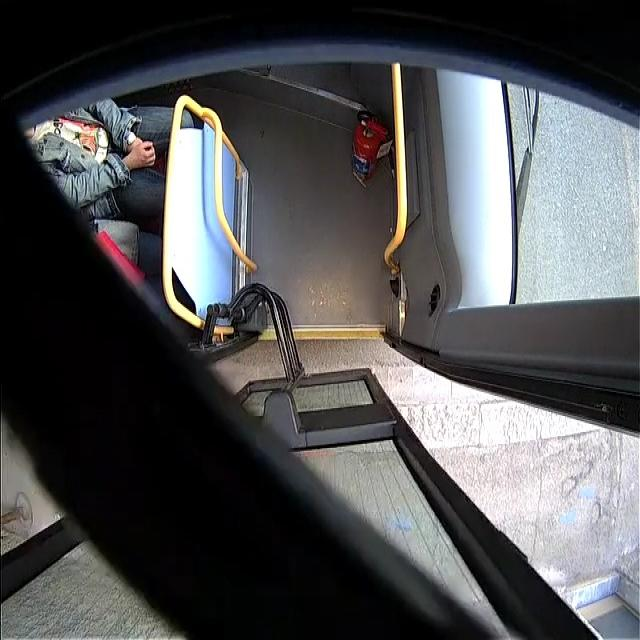bus-door: (0, 352, 640, 615)
